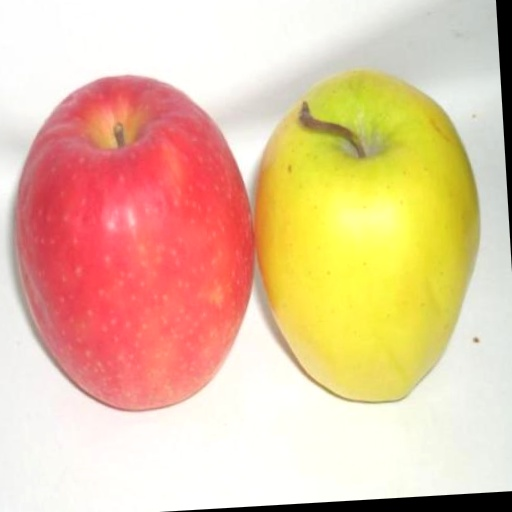fruit: (15, 76, 252, 410), (254, 70, 479, 401)
